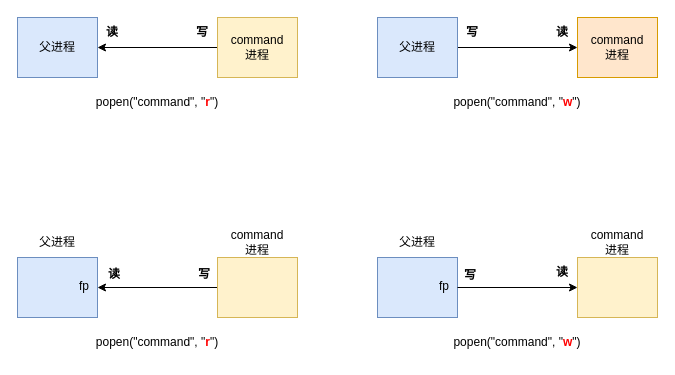
This 675x375 diagram has some shape labels left out. The shapes that lost their labels are listed below. From the top down, each one's box as (x1, y1, x2, y2) in pixels, then its label:
(216, 256, 298, 318): stdout
(576, 256, 658, 318): stdin
